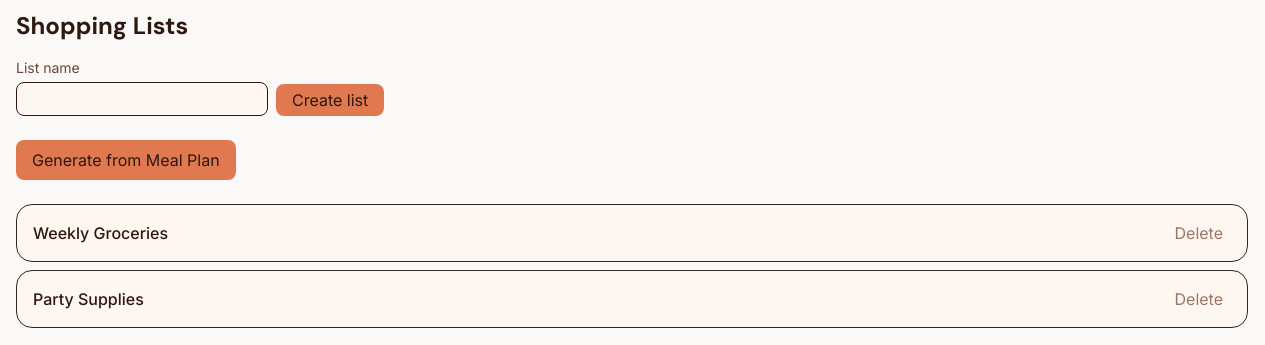
Test: ShoppingListPage › Delete List › should remove a list when delete button is clicked
Expected: the button "Weekly Groceries" is shown, [33,221,168,245]
Click the 1st button "Delete" at [1199, 233], box [1166,221,1231,245]
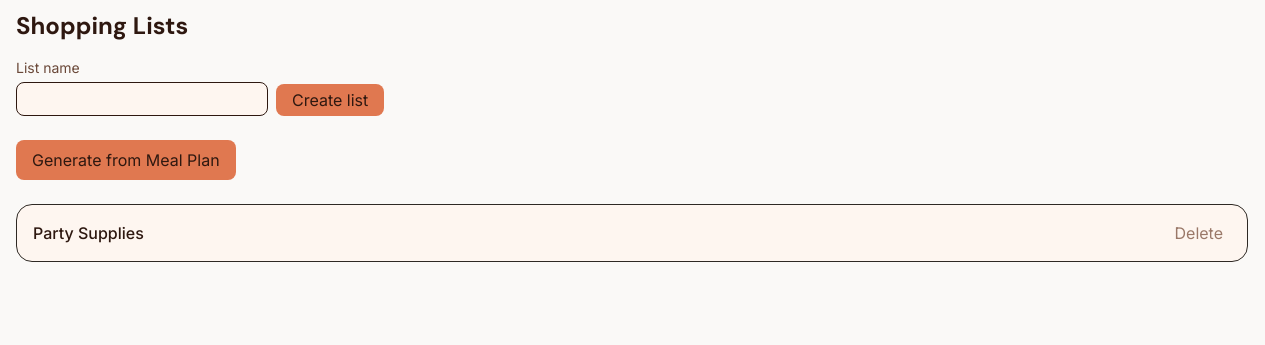
Result: the button "Weekly Groceries" is gone
